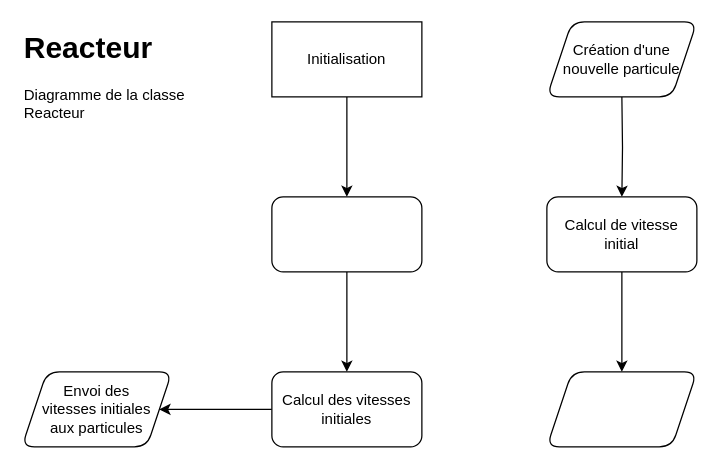
Some shapes in this 719 by 469 pixel diagram are drawn without their labels. The shapes that lost their labels are listed below. From the top down, each one's centre as x and y in pixels, then its label:
pixel 346 234: Insertion et création de N particules
pixel 621 409: Envoi de vitesse initial
